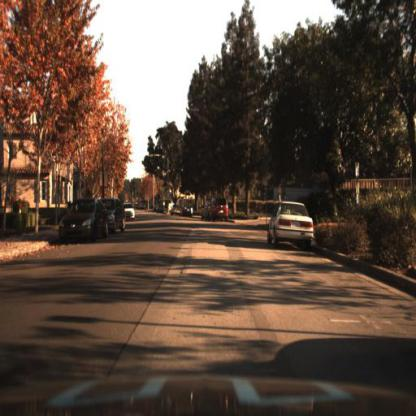car: (54, 196, 107, 249), (267, 198, 317, 250), (57, 198, 110, 238), (102, 197, 126, 240), (107, 192, 128, 239), (207, 194, 230, 223), (124, 198, 139, 229), (200, 197, 212, 228)
